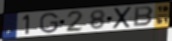1: (22, 14, 31, 35)
2: (65, 10, 85, 32)
8: (88, 9, 107, 30)
B: (133, 6, 155, 28)
G: (39, 12, 59, 34)
X: (112, 6, 134, 30)
